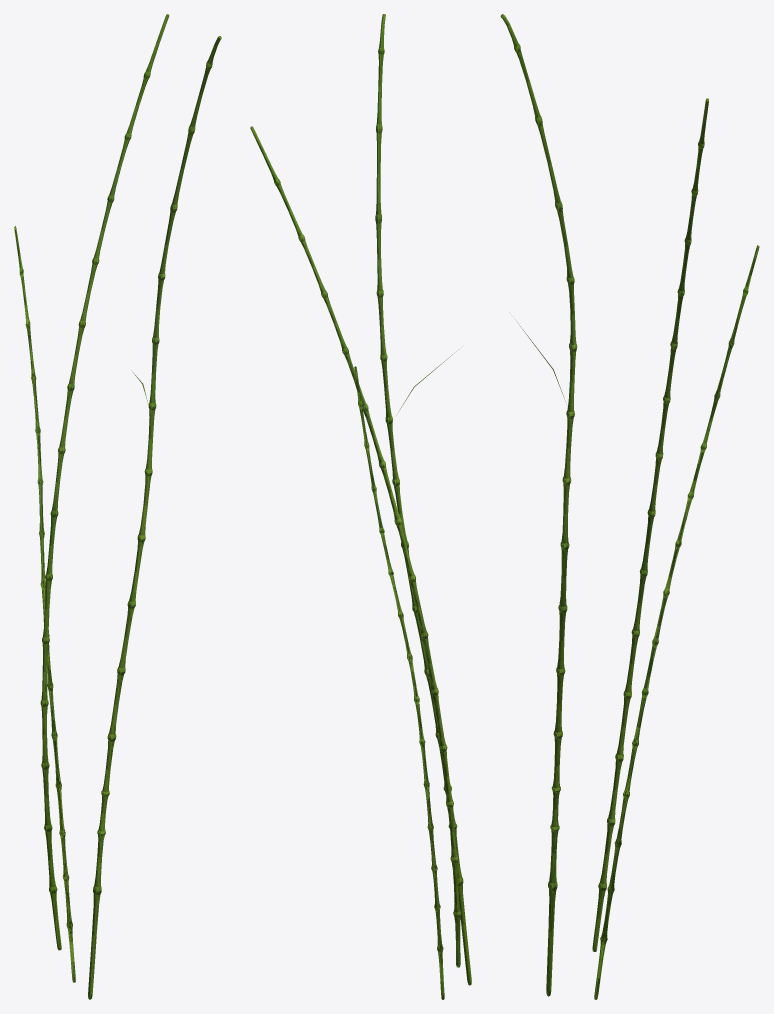
Rendered from Bamboo.glb.
3 renders of one model, left to right at view 1: azimuth 30°, elevation 25°; view 2: azimuth 150°, elevation 25°; view 3: azimuth 270°, elevation 25°, orthographic. The views are drawn at different scales.
Parts seen in each view (by area): view 1: Bamboo; view 2: Bamboo; view 3: Bamboo.
Part boxes in pixels (x1,y1,x2,y2): Bamboo: [14, 14, 221, 999]; Bamboo: [250, 14, 471, 999]; Bamboo: [500, 14, 759, 999].
Bounding box in the file's own units: 0.00752 × 0.0406 × 0.00916.
Materials: 1 (1 with a texture image).
